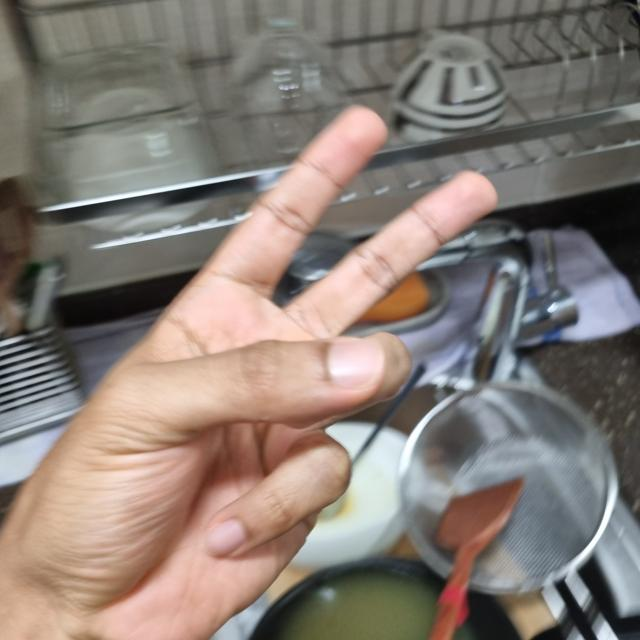Scissors: (1, 108, 495, 640)
